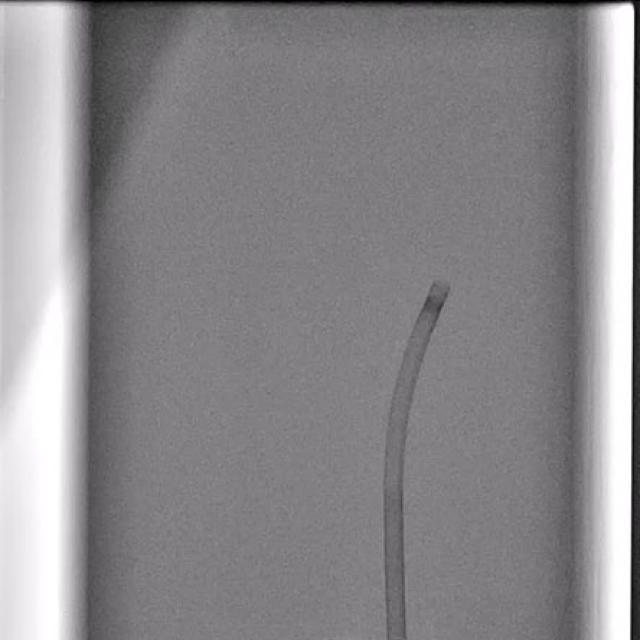bend: (385, 466, 403, 484)
entry: (388, 634, 407, 640)
marker: (424, 297, 444, 315)
tip: (432, 281, 452, 291)
